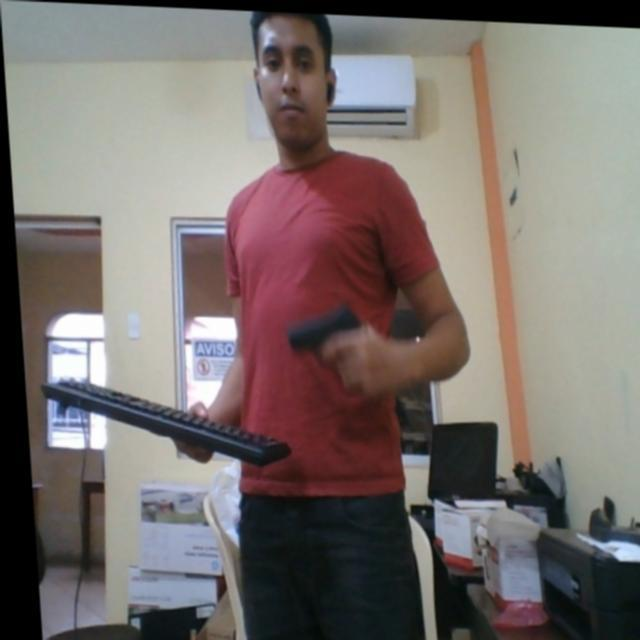weapon: (278, 294, 372, 384)
